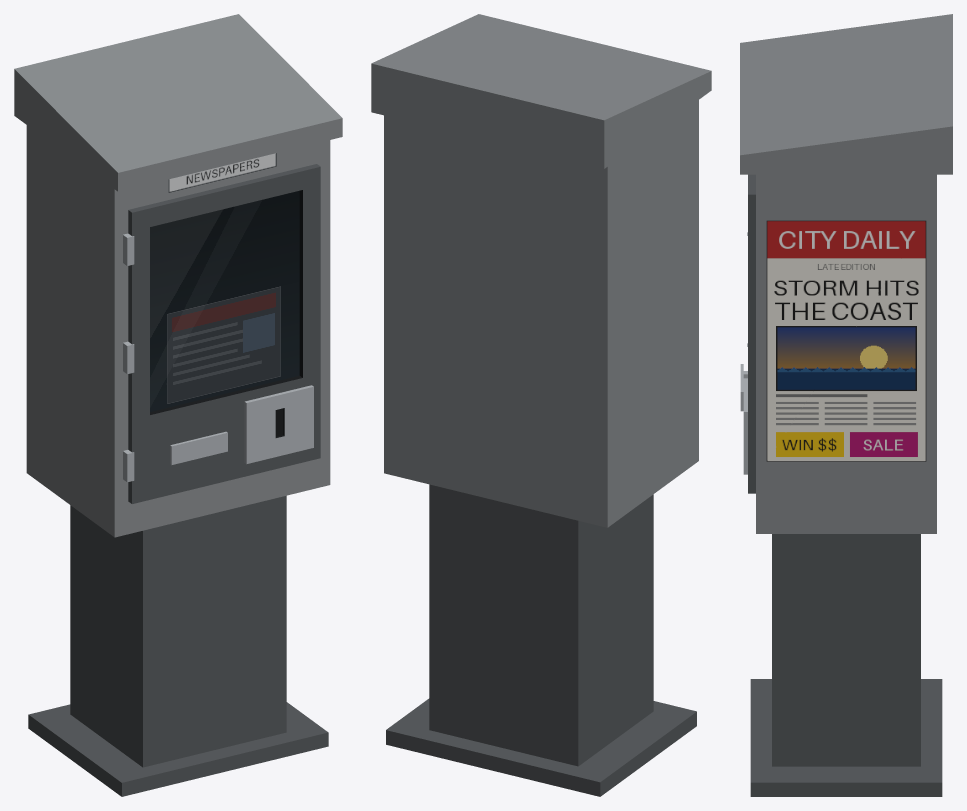
Rendered from prop_newskiosk_metal.glb.
The picture shows the model from 3 angles, left to right: view 1: azimuth 30°, elevation 25°; view 2: azimuth 150°, elevation 25°; view 3: azimuth 270°, elevation 25°; orthographic projection. The views are drawn at different scales.
Visible parts, largest first — view 1: prop_newskiosk_metal; view 2: prop_newskiosk_metal; view 3: prop_newskiosk_metal.
Part boxes in pixels (left/top/right/bottom): prop_newskiosk_metal: left=14, top=14, right=342, bottom=796; prop_newskiosk_metal: left=371, top=14, right=711, bottom=796; prop_newskiosk_metal: left=740, top=14, right=952, bottom=796.
Bounding box in the file's own units: 0.5 × 1.4 × 0.4.
Materials: 1 (1 with a texture image).
